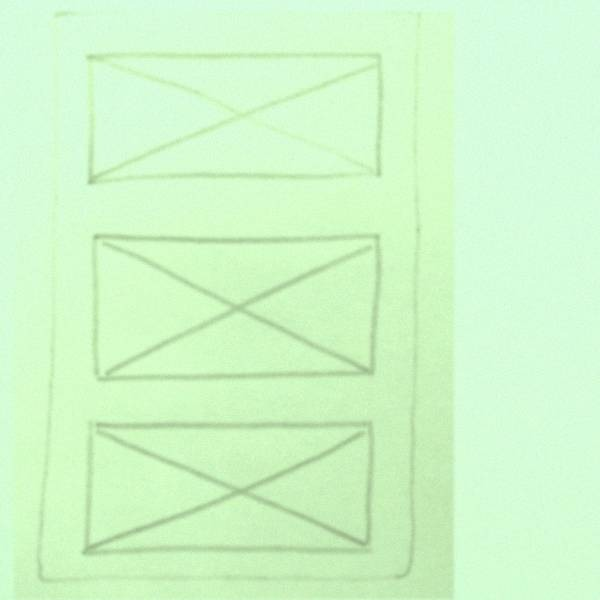image: (81, 227, 384, 387), (78, 407, 381, 566), (80, 42, 385, 192)
